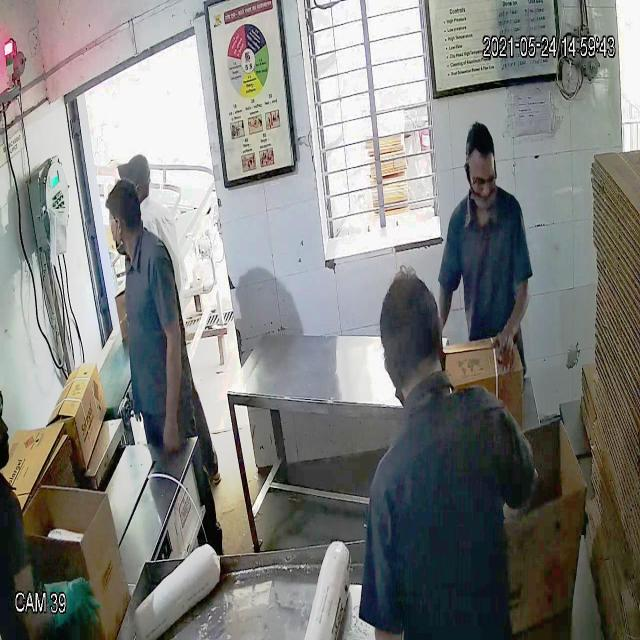glasses: (466, 158, 498, 199)
